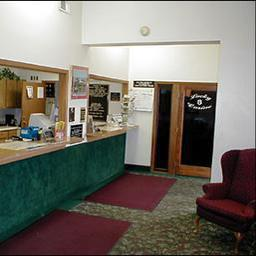Puerta: (175, 84, 213, 177)
